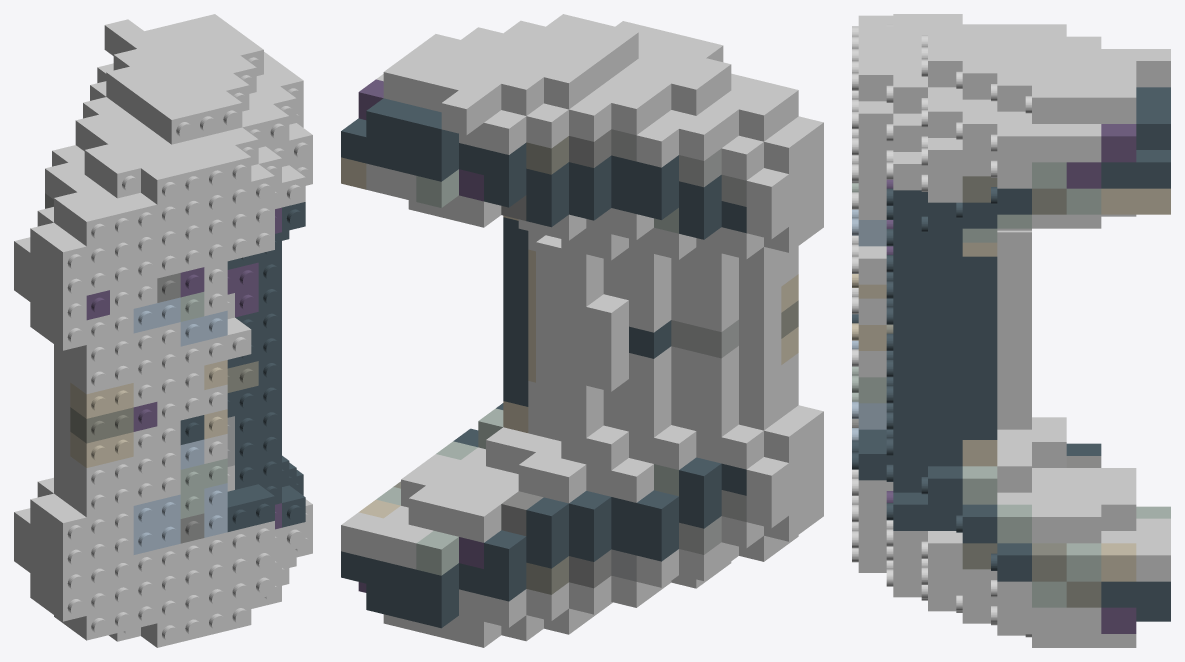
Rendered from full.glb.
3 views of the same model, side by side, from view 1: azimuth 30°, elevation 25°; view 2: azimuth 150°, elevation 25°; view 3: azimuth 270°, elevation 25° (orthographic). The views are drawn at different scales.
Parts seen in each view (by area): view 1: world; view 2: world; view 3: world.
Boxes of the visible parts, <box> form: world: <box>14,14,312,647</box>; world: <box>341,14,823,647</box>; world: <box>852,14,1170,647</box>.
Size of the model in its own units: 104 by 168 by 88.2.
